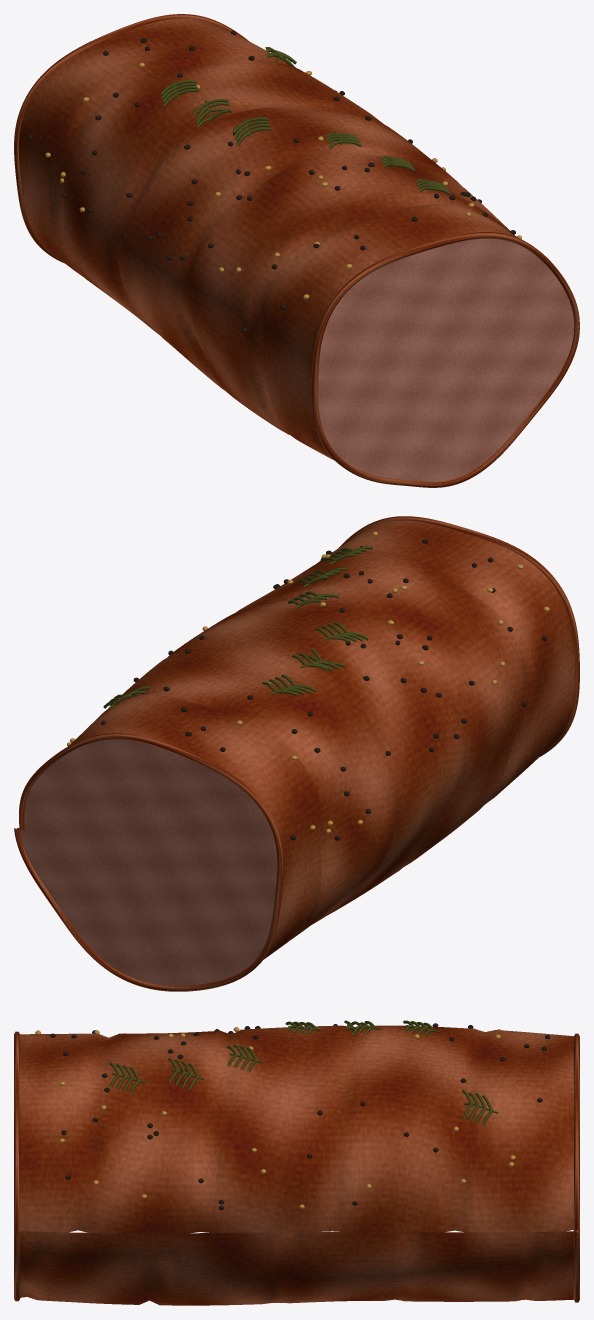
File: roast_venison.glb
3 views of the same model, one above another, from view 1: azimuth 30°, elevation 25°; view 2: azimuth 150°, elevation 25°; view 3: azimuth 270°, elevation 25° (orthographic). The views are drawn at different scales.
Parts seen in each view (by area): view 1: Venison roast outer muscle, Venison roast cut face, Venison connective rim, Roasted rosemary leaves, Cracked black pepper, Toasted seasoning seeds; view 2: Venison roast outer muscle, Venison roast cut face, Venison connective rim, Roasted rosemary leaves, Cracked black pepper, Toasted seasoning seeds; view 3: Venison roast outer muscle, Venison connective rim, Roasted rosemary leaves, Cracked black pepper, Toasted seasoning seeds.
Part boxes in pixels (<box>): Venison roast outer muscle: <box>19,18,516,460</box>; Venison roast cut face: <box>318,238,574,481</box>; Venison connective rim: <box>14,14,579,487</box>; Roasted rosemary leaves: <box>160,47,450,195</box>; Cracked black pepper: <box>27,30,515,332</box>; Toasted seasoning seeds: <box>45,63,521,299</box>; Venison roast outer muscle: <box>69,520,574,959</box>; Venison roast cut face: <box>17,739,277,985</box>; Venison connective rim: <box>14,516,579,991</box>; Roasted rosemary leaves: <box>103,546,372,708</box>; Cracked black pepper: <box>101,539,547,840</box>; Toasted seasoning seeds: <box>67,531,549,833</box>; Venison roast outer muscle: <box>17,1025,576,1305</box>; Venison connective rim: <box>14,1031,579,1302</box>; Roasted rosemary leaves: <box>109,1020,498,1125</box>; Cracked black pepper: <box>50,1023,550,1210</box>; Toasted seasoning seeds: <box>35,1027,515,1208</box>.
Bounding box in the file's own units: 0.1815 × 0.1631 × 0.3286.
6 materials, 4 textured.
